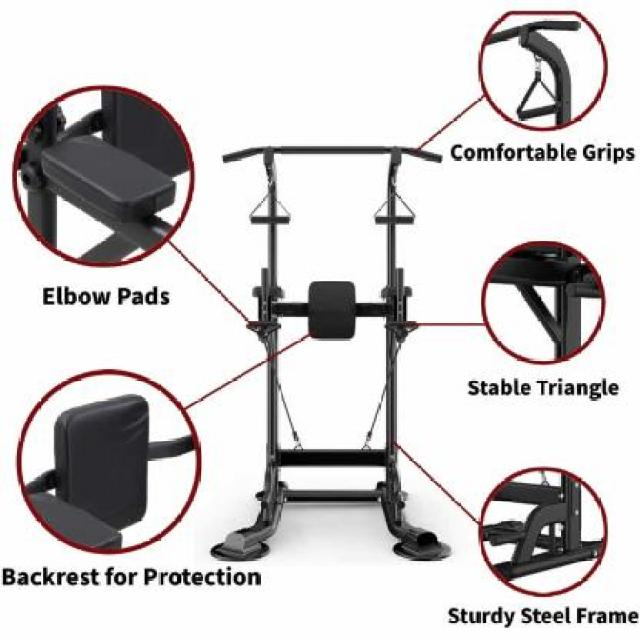chinning dipping: (220, 143, 443, 563)
